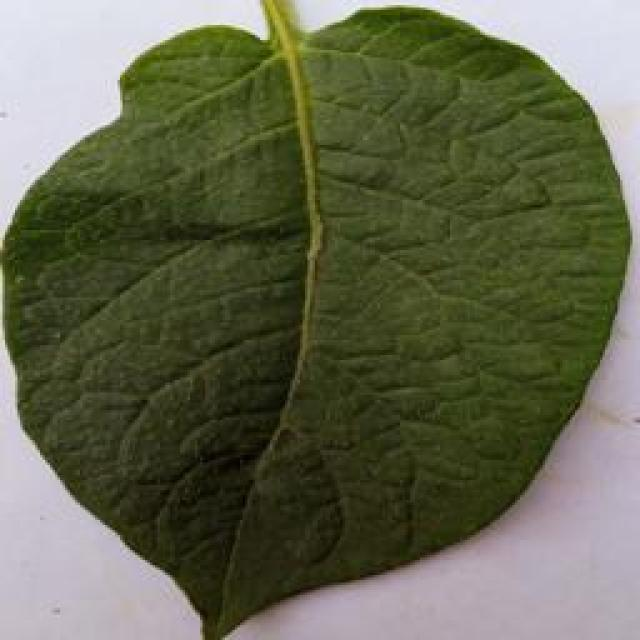Potato_Healthy: (7, 9, 621, 636)
